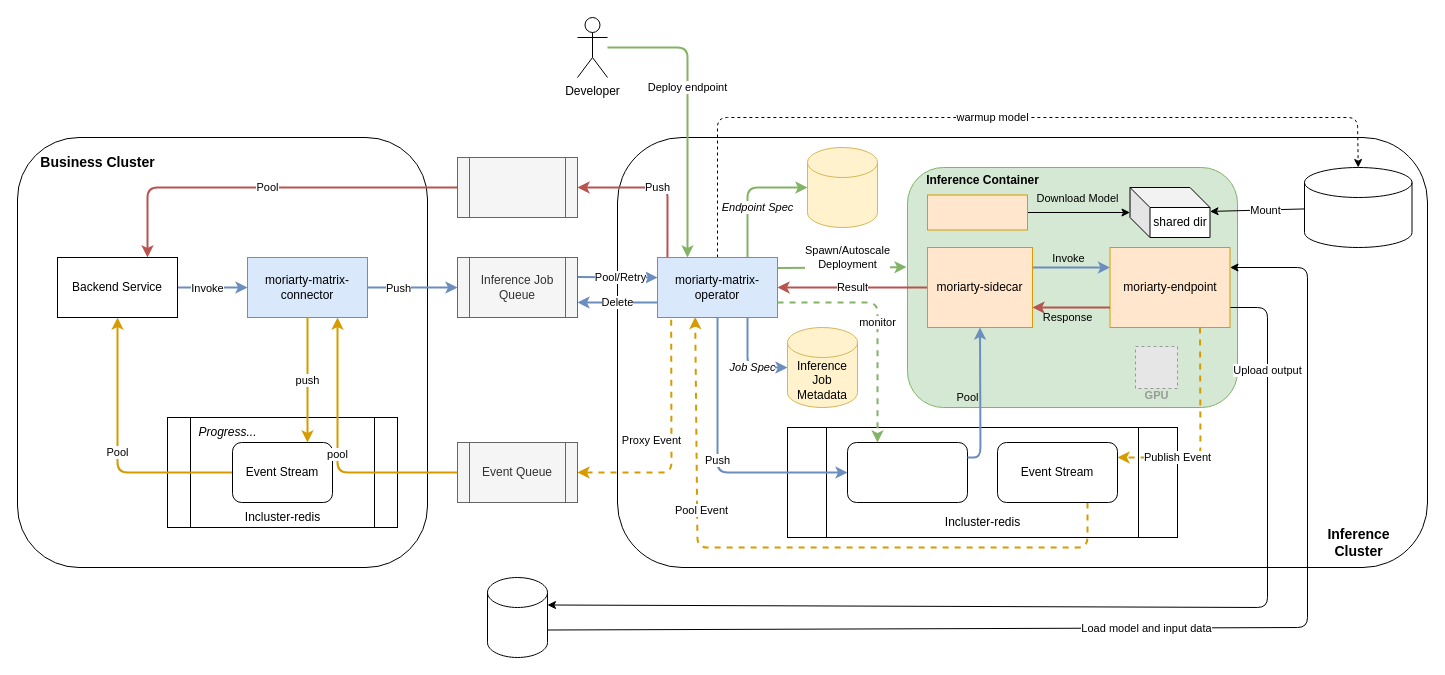
This 1445x675 diagram has some shape labels left out. Grey dashed boxes stand in for pictures. The box of each missing label's shape, as (x1, y1, x2, y2) in pixels:
Inference Endpoint Metadata: (806, 146, 878, 228)
Inference Function Queue: (846, 442, 968, 502)
Inference Result Queue: (456, 156, 578, 218)
moriarty-init: (926, 194, 1028, 230)
S3 Storage: (486, 576, 548, 658)
Shared High Preformance Storage: (1304, 166, 1412, 248)
